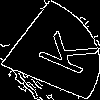K: (24, 25, 100, 77)
